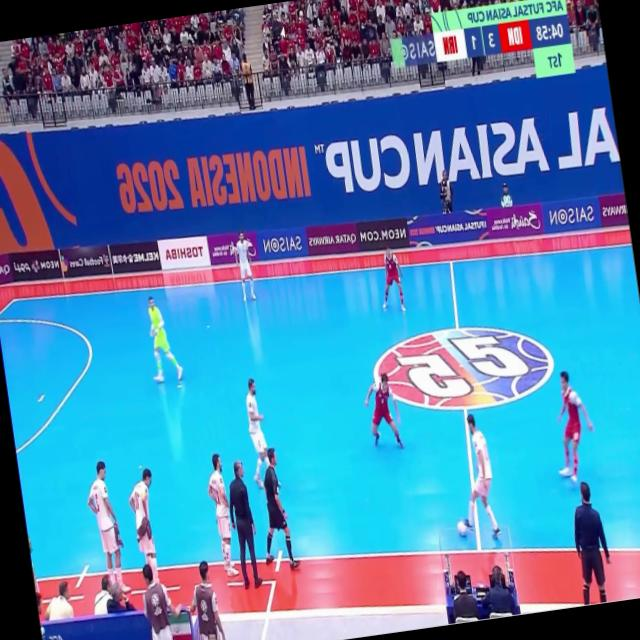keeper: (144, 309, 179, 376)
referee: (573, 483, 609, 604), (263, 448, 298, 569)
